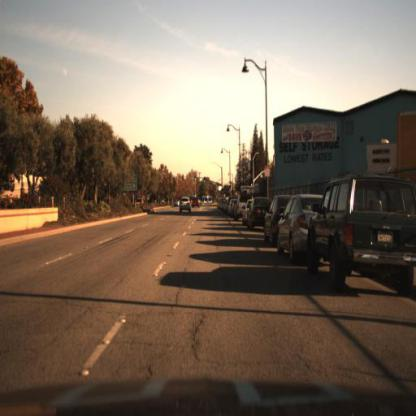car: (308, 175, 416, 291), (279, 192, 330, 262), (276, 193, 314, 273), (261, 186, 293, 248), (247, 195, 274, 235), (177, 194, 191, 214), (191, 195, 203, 212)
trafficLight-Green: (221, 188, 226, 200), (202, 175, 207, 186), (194, 175, 199, 185)
